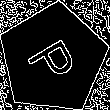P_NE: (23, 30, 84, 87)
